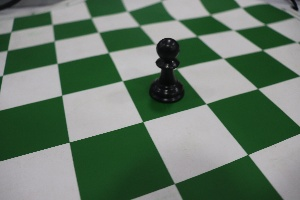black_pawn: (143, 30, 191, 108)
